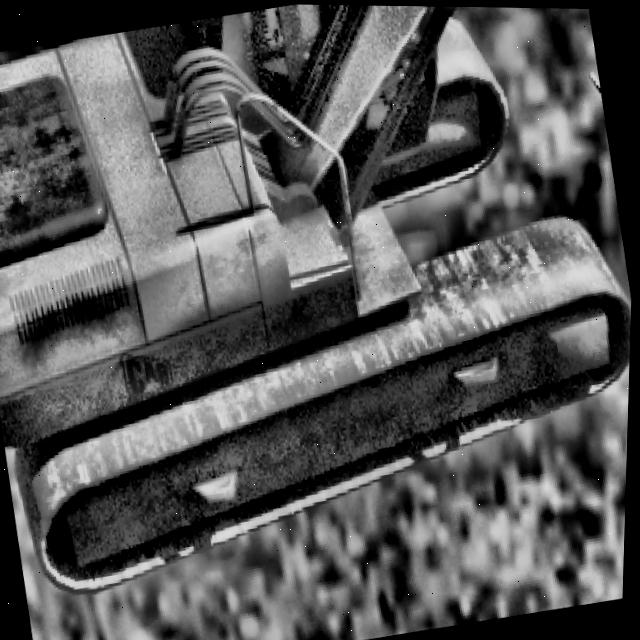excavator: (0, 0, 640, 605)
